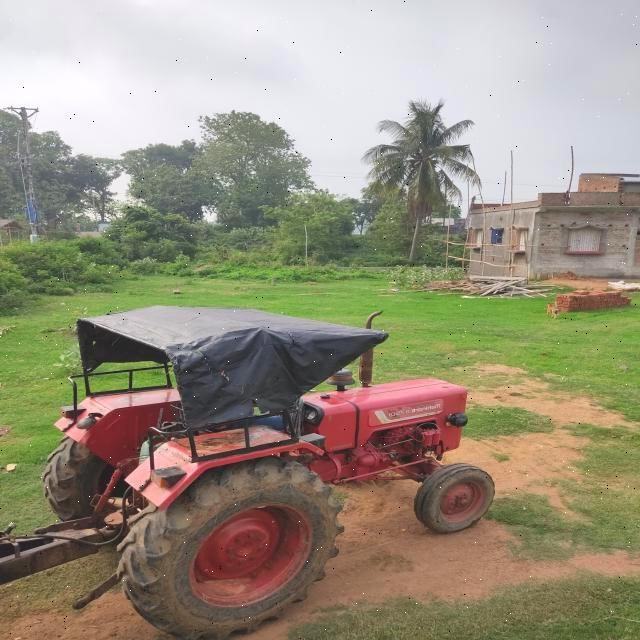Tratores - v5 YOLO V8L 2024-11-13: (40, 308, 494, 632)
